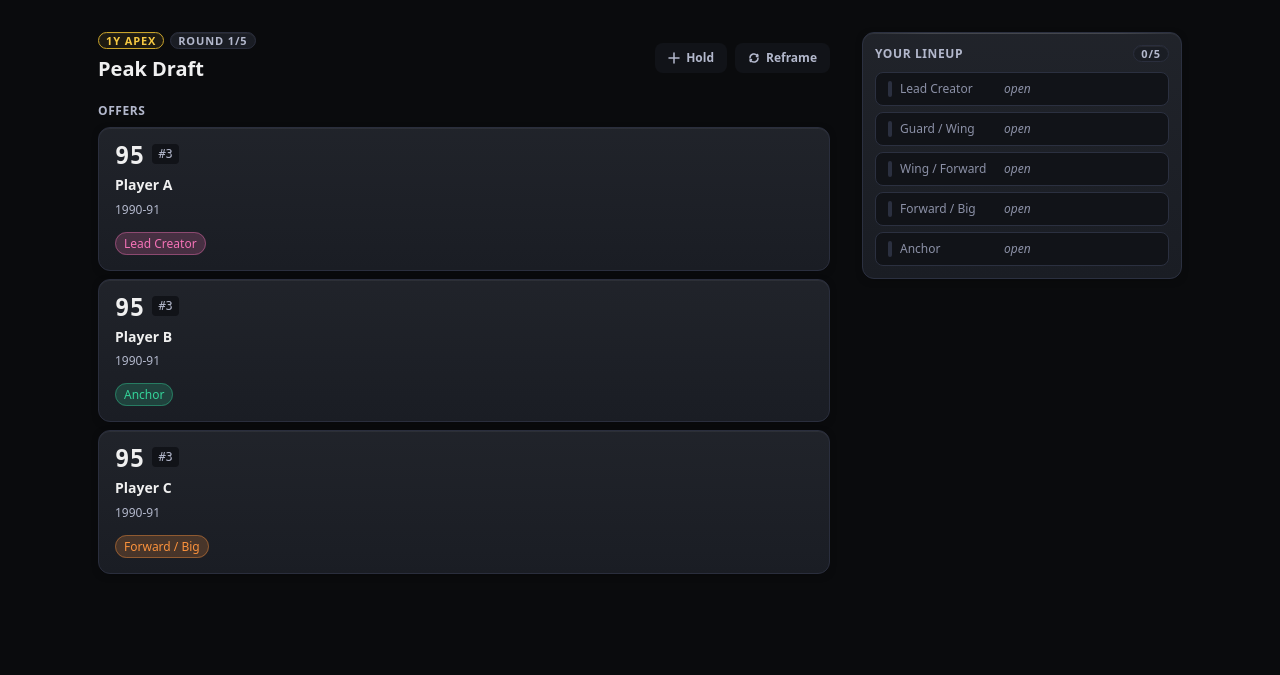
Test: DraftScreen › picking an eligible role and locking in submits the action and advances the round
This screenshot has width=1280, height=675.
Click the button with test id "offer-card".
click(144, 184)  # box [98,127,830,270]
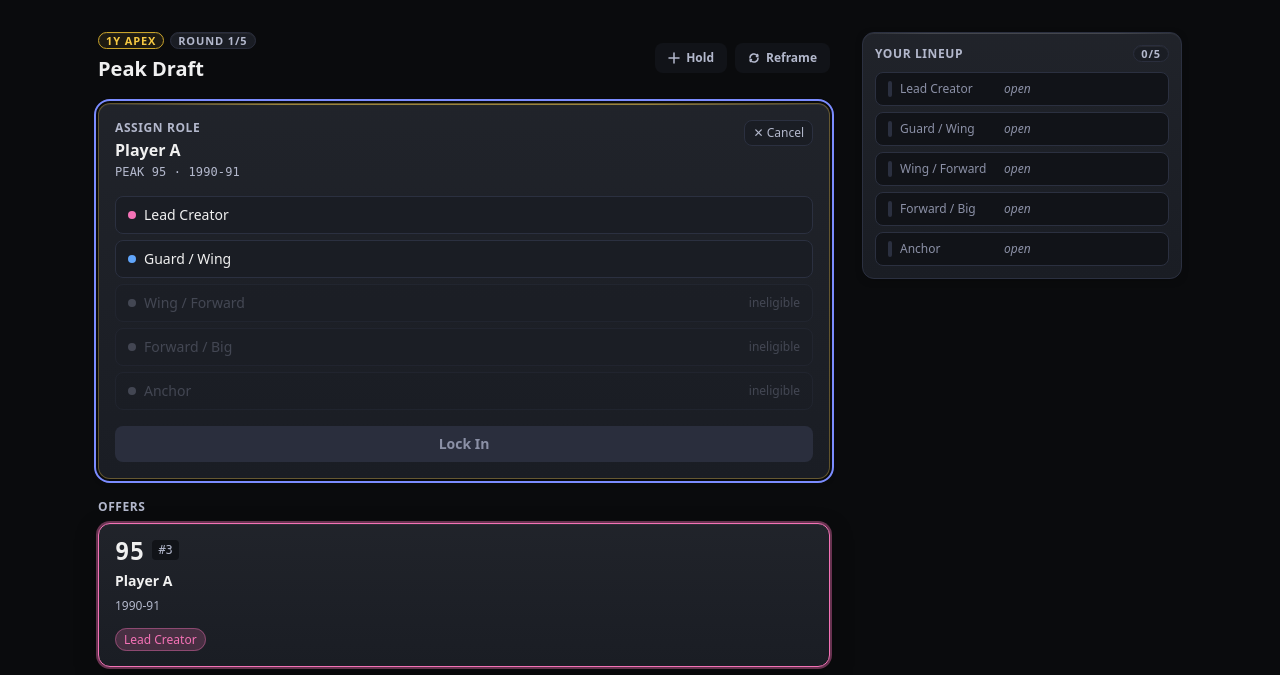
Click the button with test id "role-btn".
click(186, 214)  # box [115,196,813,234]
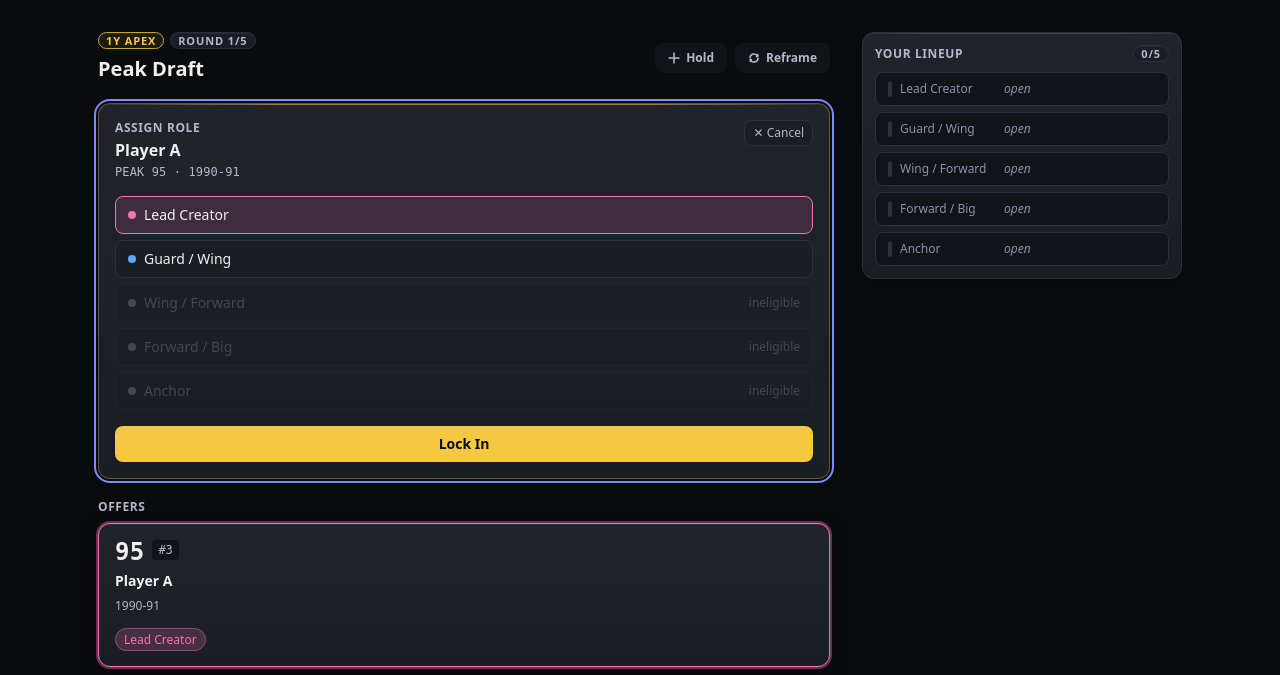
Click the button with test id "lock-in".
click(464, 444)  # box [115,426,813,462]
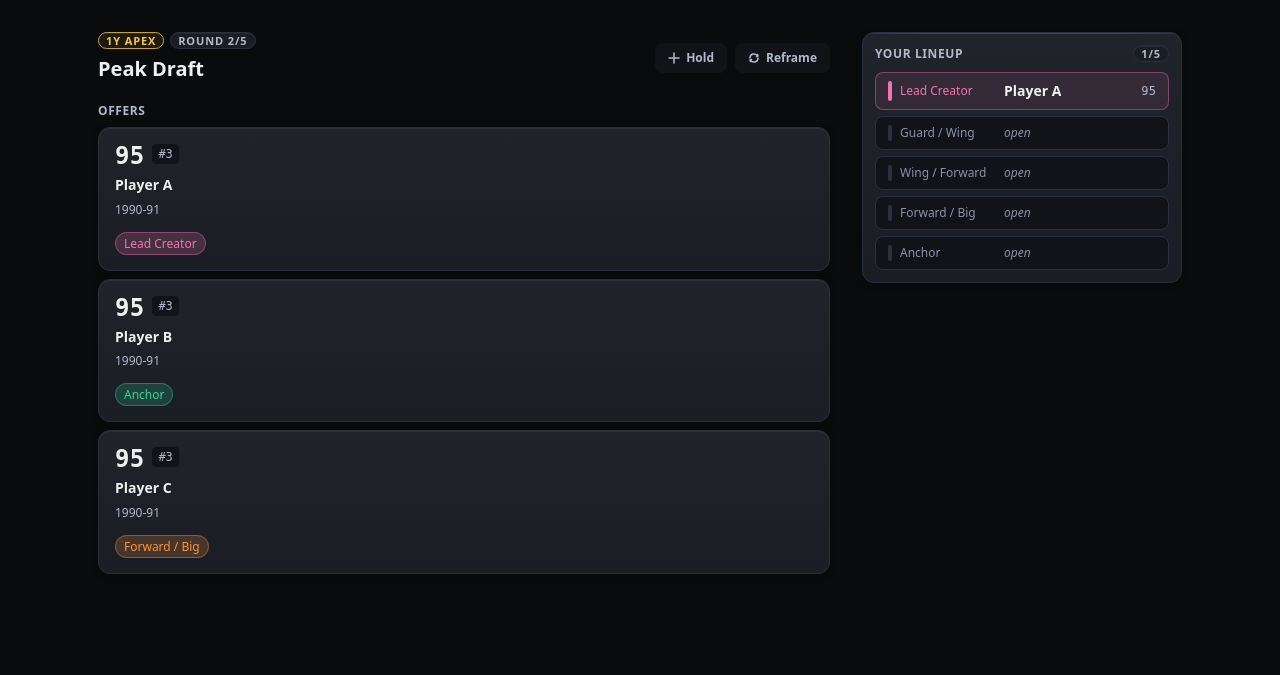
Check: the text "Round 2/5" is shown, box [170,32,256,49]
